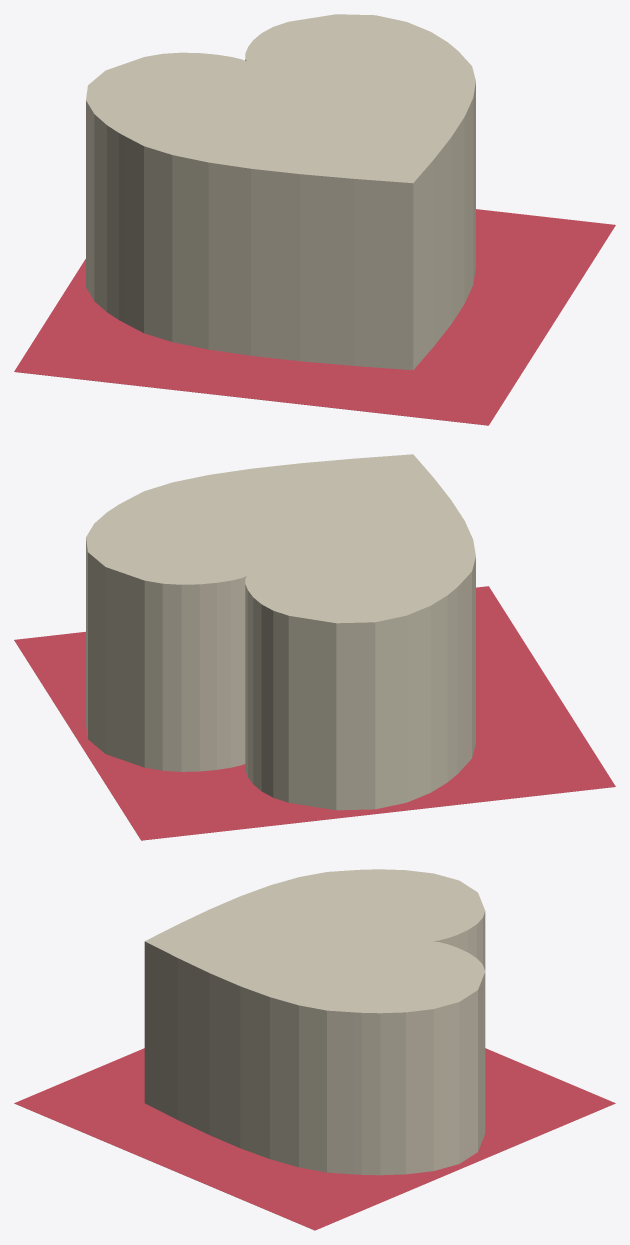
File: VVV.glb
The picture shows the model from 3 angles, top to bottom: view 1: azimuth 30°, elevation 25°; view 2: azimuth 150°, elevation 25°; view 3: azimuth 270°, elevation 25°; orthographic projection. The views are drawn at different scales.
Visible parts, largest first — view 1: Mesh_Mesh_head_geo.001_lambert2SG.001; view 2: Mesh_Mesh_head_geo.001_lambert2SG.001; view 3: Mesh_Mesh_head_geo.001_lambert2SG.001.
Part boxes in pixels (x1=…): Mesh_Mesh_head_geo.001_lambert2SG.001: x1=14, y1=14, x2=615, y2=425; Mesh_Mesh_head_geo.001_lambert2SG.001: x1=14, y1=454, x2=615, y2=840; Mesh_Mesh_head_geo.001_lambert2SG.001: x1=14, y1=869, x2=615, y2=1230.
Bounding box in the file's own units: 0.0354 × 0.0105 × 0.0354.
